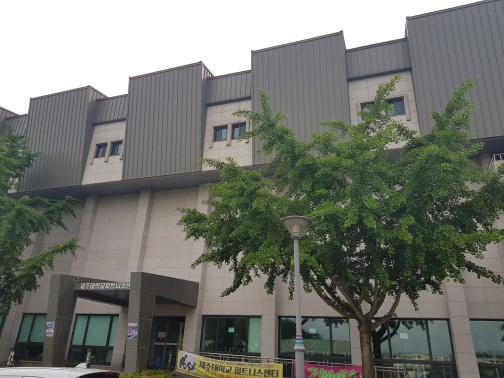Gym: (10, 13, 499, 375), (27, 19, 351, 172), (40, 266, 192, 370)
